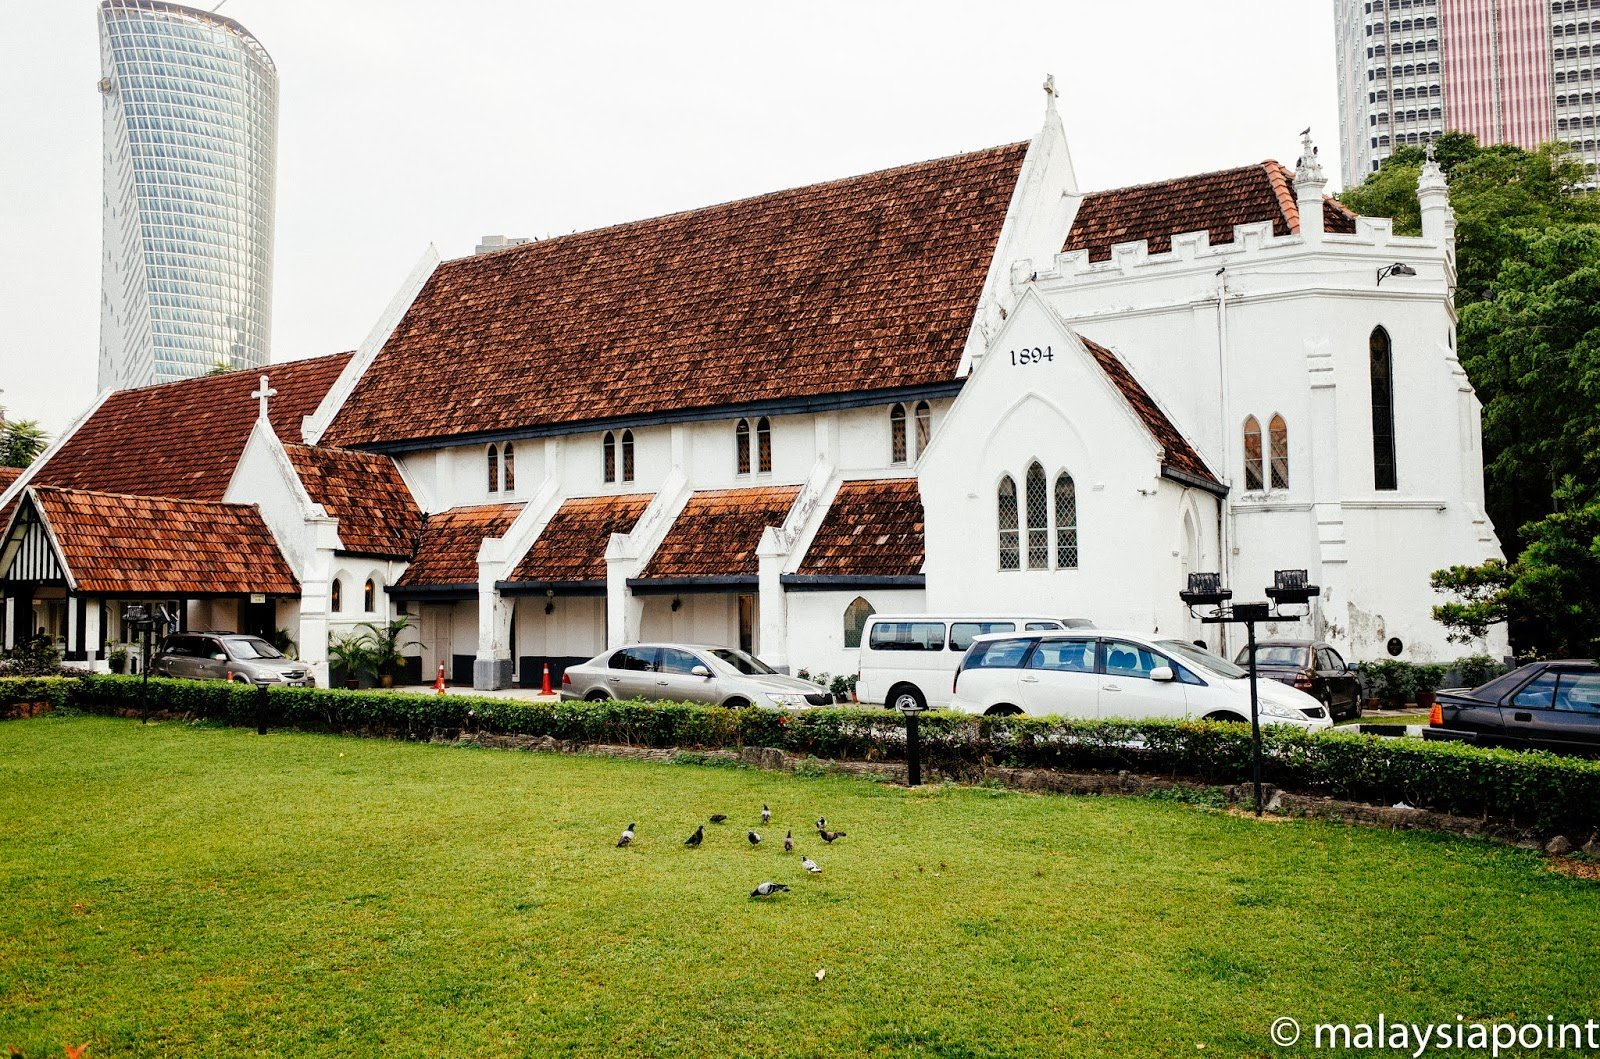Church: (79, 115, 1484, 716)
